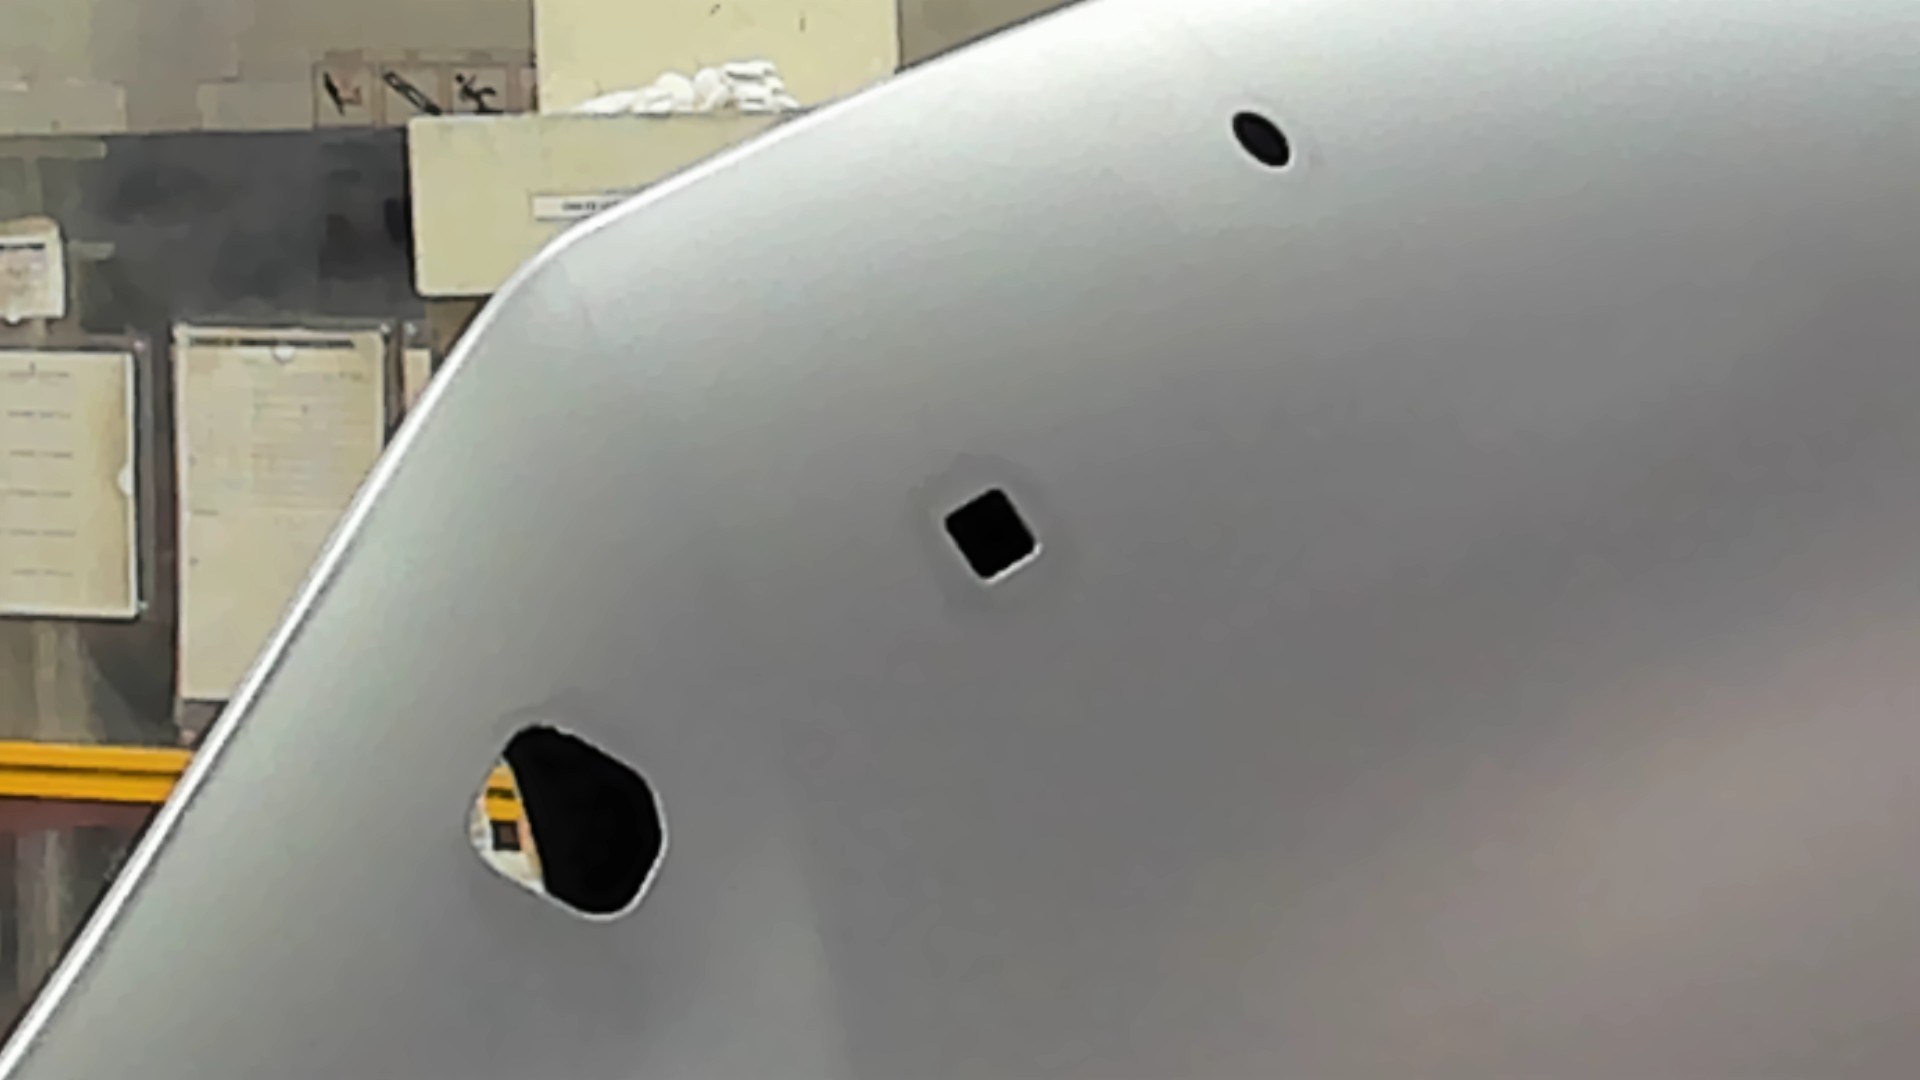capo: (1048, 175, 1920, 1080)
chico: (1228, 104, 1300, 177)
grande: (459, 717, 675, 931)
mediano: (938, 483, 1043, 589)
